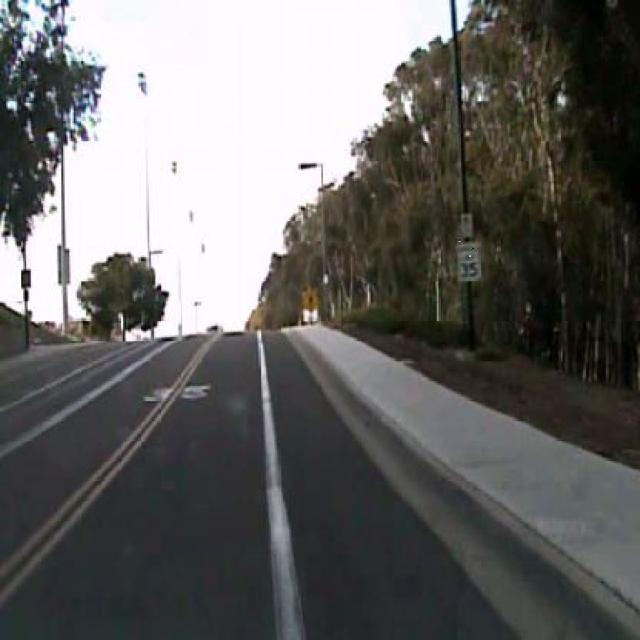speedLimit35: (457, 239, 481, 281)
